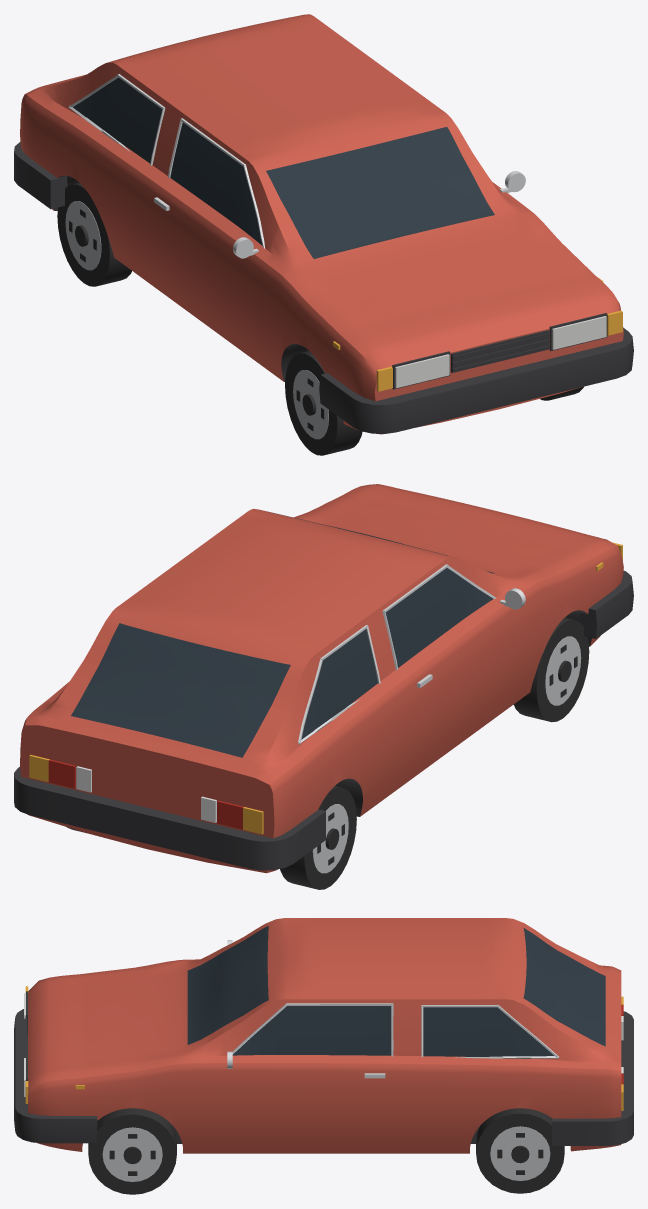
The model's file is vaz2108.glb.
The picture shows the model from 3 angles, top to bottom: view 1: azimuth 30°, elevation 25°; view 2: azimuth 150°, elevation 25°; view 3: azimuth 270°, elevation 25°; orthographic projection. The views are drawn at different scales.
Parts seen in each view (by area): view 1: paint, glass, trim, wheel_rr, wheel_fr, headlights, mirrors; view 2: paint, glass, trim, wheel_fr, wheel_rr, taillights, reverse_lights; view 3: paint, glass, trim, wheel_fl, wheel_rl.
Boxes of the visible parts, x1=… form: paint: x1=20, y1=14, x2=623, y2=434; glass: x1=73, y1=77, x2=494, y2=258; trim: x1=14, y1=74, x2=633, y2=433; wheel_rr: x1=57, y1=182, x2=131, y2=286; wheel_fr: x1=285, y1=351, x2=362, y2=455; headlights: x1=395, y1=316, x2=606, y2=388; mirrors: x1=233, y1=171, x2=525, y2=258; paint: x1=20, y1=484, x2=623, y2=873; glass: x1=71, y1=511, x2=494, y2=757; trim: x1=14, y1=539, x2=633, y2=870; wheel_fr: x1=513, y1=617, x2=589, y2=722; wheel_rr: x1=280, y1=786, x2=356, y2=889; taillights: x1=48, y1=759, x2=243, y2=829; reverse_lights: x1=76, y1=766, x2=216, y2=822; paint: x1=28, y1=918, x2=621, y2=1153; glass: x1=187, y1=926, x2=605, y2=1056; trim: x1=14, y1=991, x2=633, y2=1145; wheel_fl: x1=88, y1=1108, x2=176, y2=1194; wheel_rl: x1=476, y1=1108, x2=564, y2=1193.
Size of the model in its own units: 1.79 by 1.33 by 3.93.
